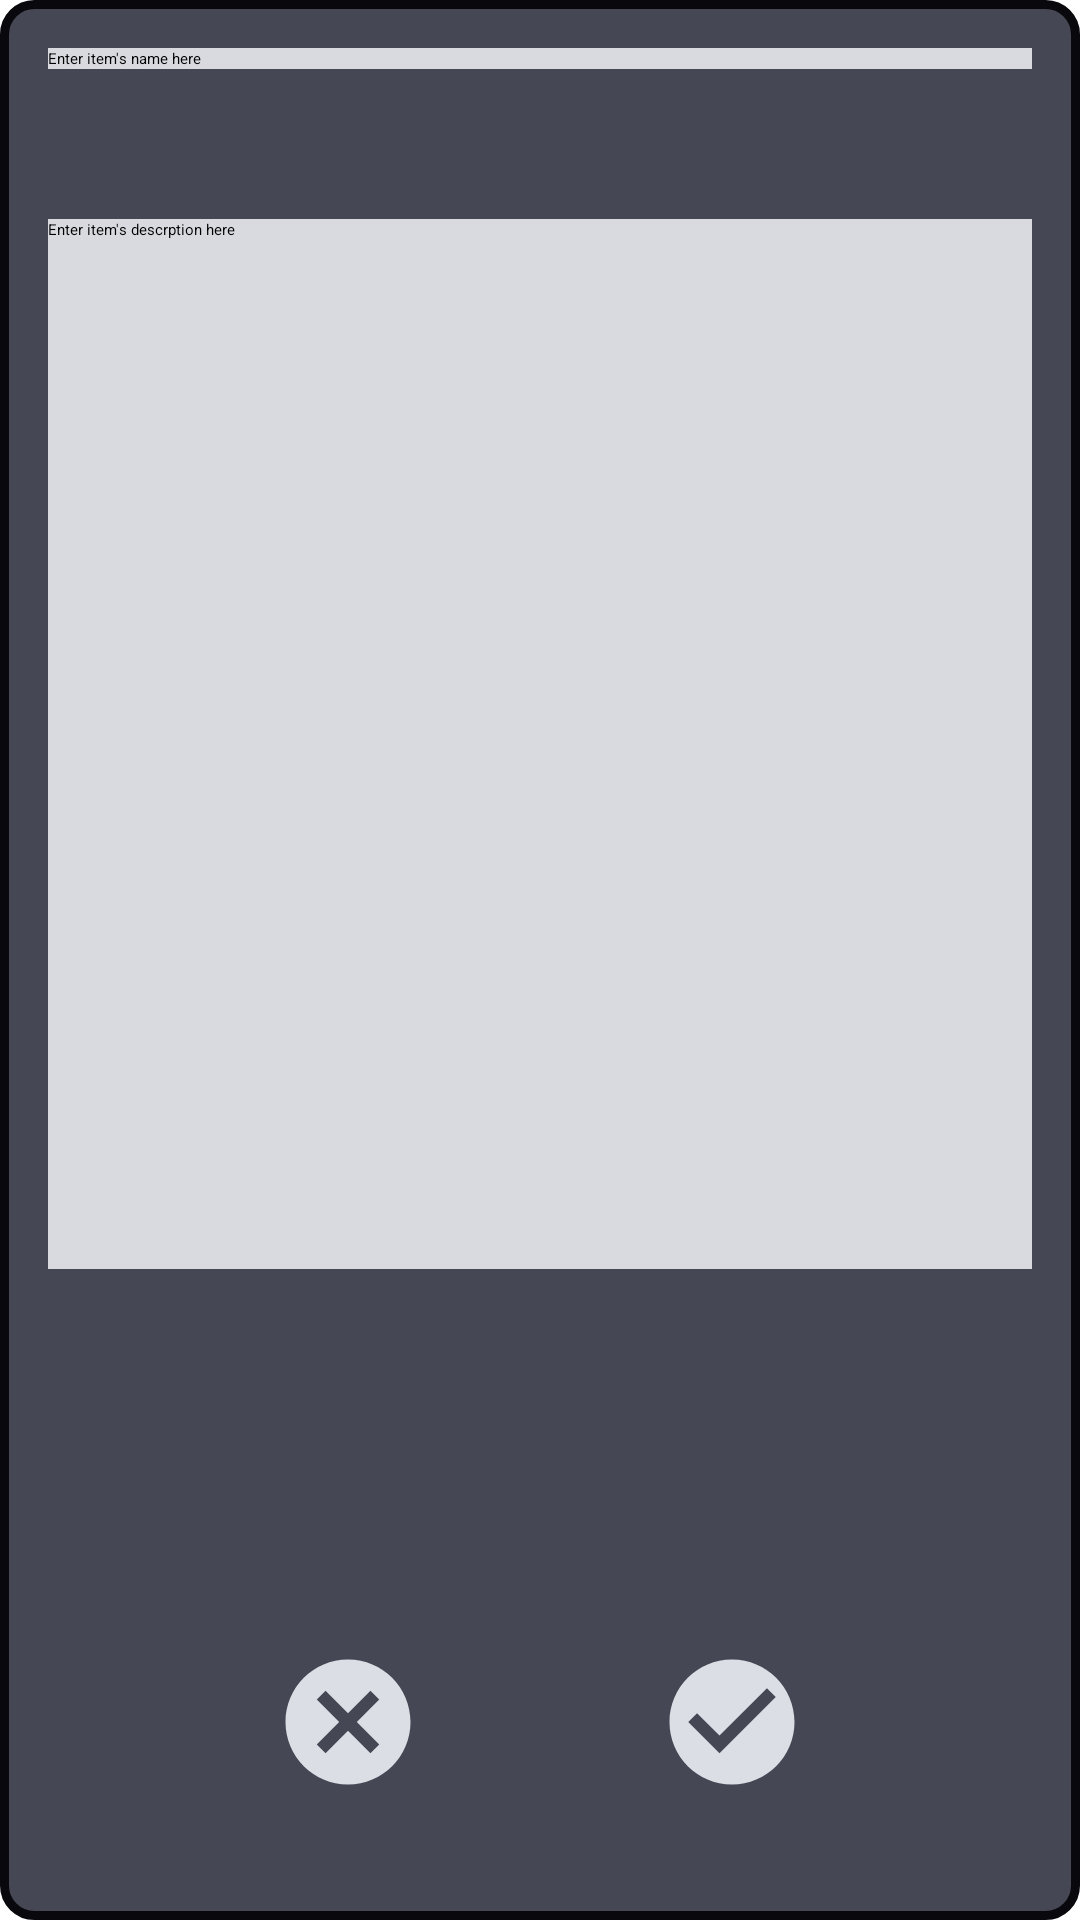

Named icons in this screenshot (1080*1920) and their centers, (x=x, y=y):
cancel item: (x=348, y=1722)
confirm item: (x=732, y=1722)
